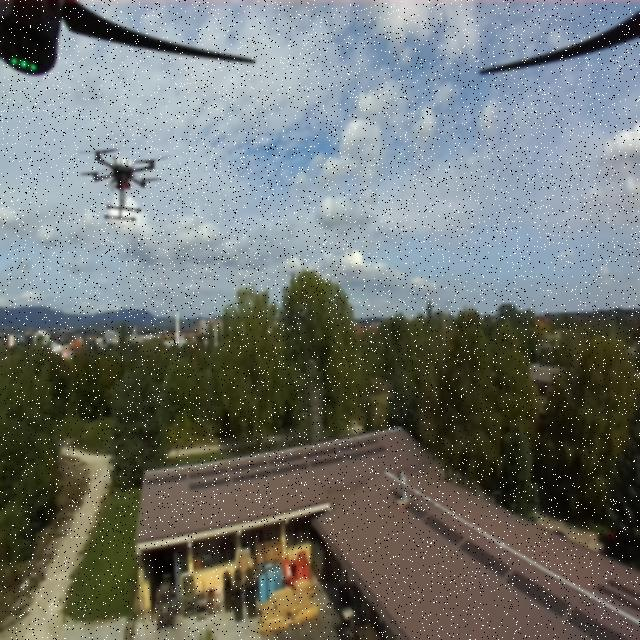UAV: (77, 141, 171, 222)
